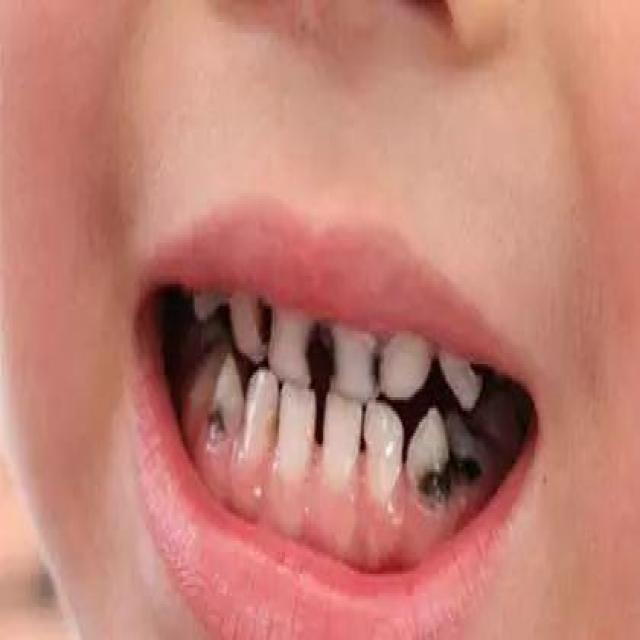caries: (421, 461, 474, 508), (307, 331, 336, 386), (250, 312, 279, 351), (210, 419, 229, 444), (372, 359, 381, 387)
